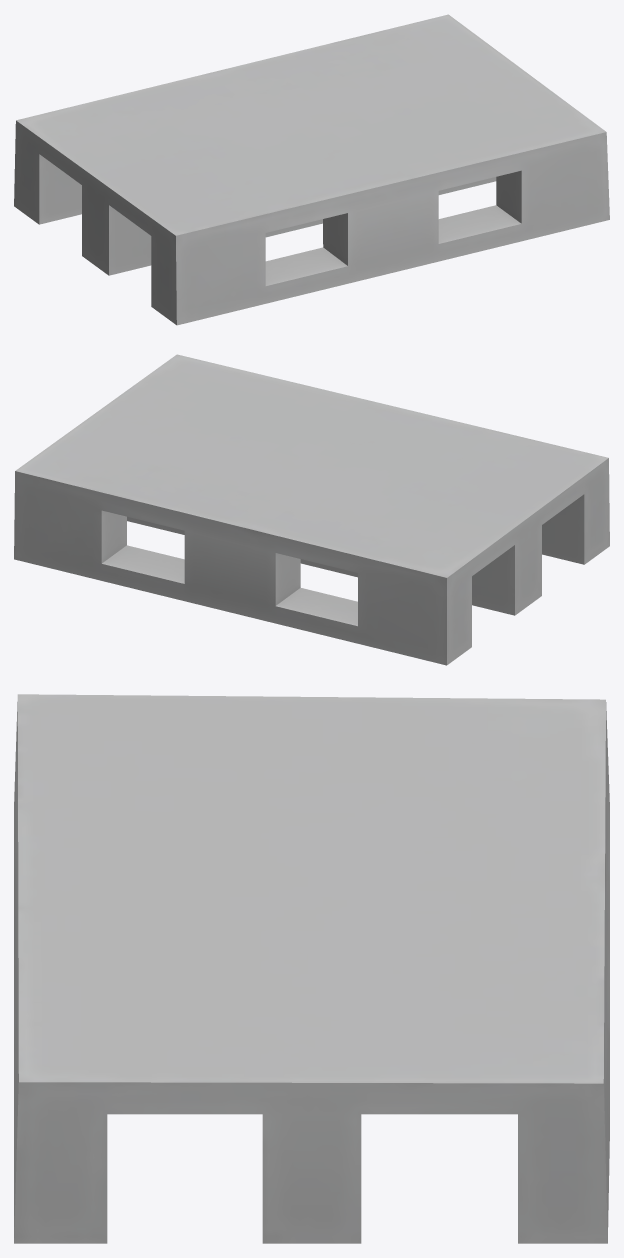
File: Pfb_PlasticPallet__3.fbx
3 renders of one model, top to bottom at view 1: azimuth 30°, elevation 25°; view 2: azimuth 150°, elevation 25°; view 3: azimuth 270°, elevation 25°, orthographic. The views are drawn at different scales.
Visible parts, largest first — view 1: Mat_PlasticPallet_01; view 2: Mat_PlasticPallet_01; view 3: Mat_PlasticPallet_01.
Part boxes in pixels (<box>): Mat_PlasticPallet_01: <box>14,14,609,325</box>; Mat_PlasticPallet_01: <box>14,354,609,665</box>; Mat_PlasticPallet_01: <box>14,694,609,1243</box>.
Bounding box in the file's own units: 1.53 × 0.3 × 0.9958.
1 material, 1 textured.
